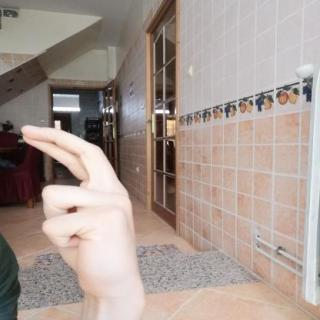ZAY: (11, 119, 154, 308)
